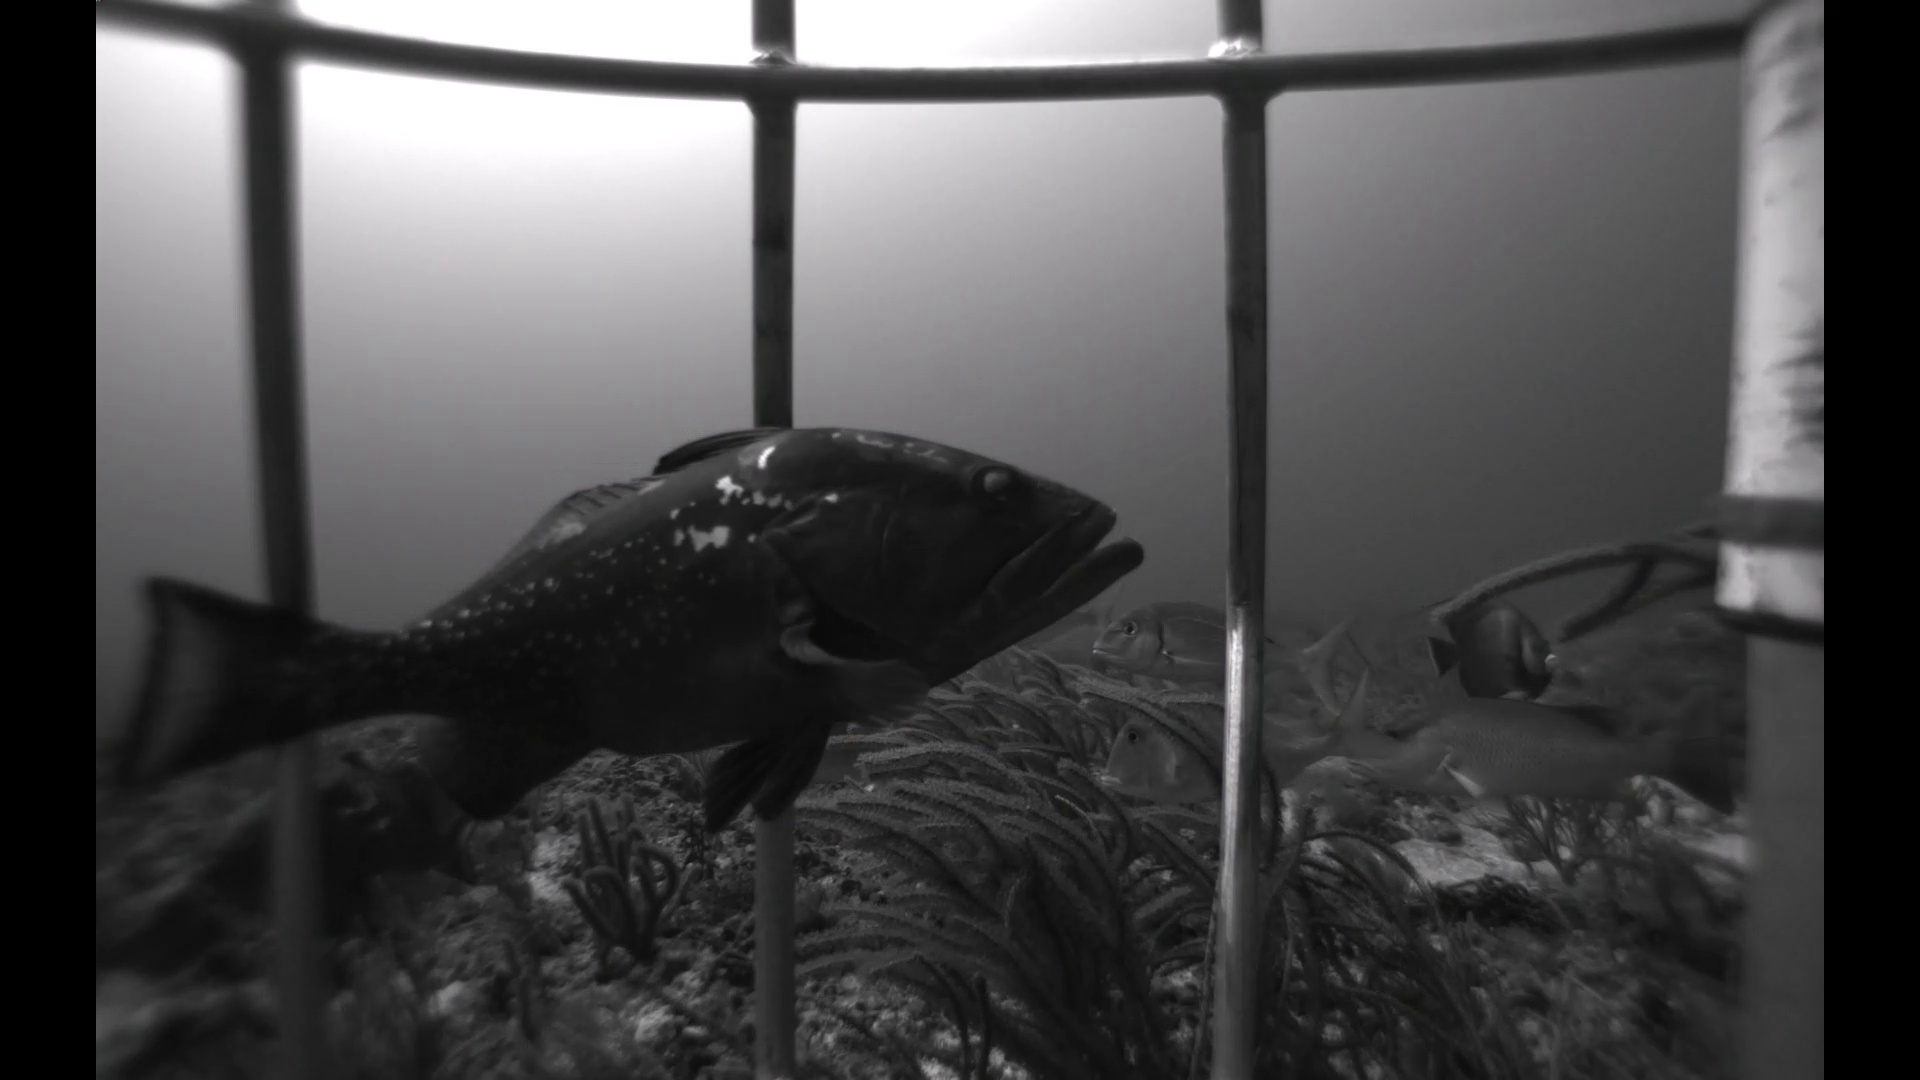CALAMUSNODOSUS-170210608: (1077, 658, 1408, 827)
EPINEPHELUSMORIO-170021211: (120, 405, 1139, 866), (177, 732, 513, 951)
LUTJANUSGRISEUS-170151109: (1398, 676, 1745, 831), (808, 738, 916, 800)
PAGRUSPAGRUS-170212302: (1087, 591, 1354, 727), (997, 574, 1135, 665)
POMACANTHUSARCUATUS-170290201: (1419, 595, 1564, 708)
